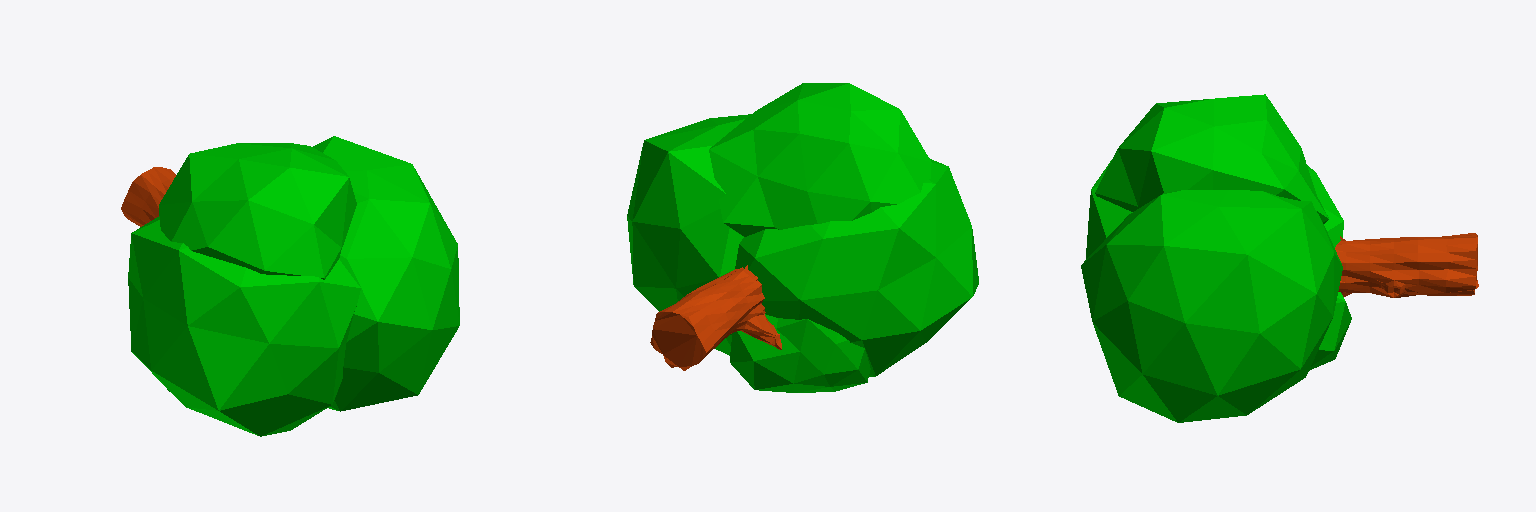
The model's file is Tree1.obj.
3 renders of one model, left to right at view 1: azimuth 30°, elevation 25°; view 2: azimuth 150°, elevation 25°; view 3: azimuth 270°, elevation 25°, orthographic.
Parts seen in each view (by area): view 1: Icosphere_Icosphere.001; view 2: Icosphere_Icosphere.001; view 3: Icosphere_Icosphere.001.
Part boxes in pixels (x1,y1,x2,y2): Icosphere_Icosphere.001: (121, 136, 459, 436); Icosphere_Icosphere.001: (627, 83, 978, 392); Icosphere_Icosphere.001: (1081, 94, 1478, 422).
Bounding box in the file's own units: 19.57 × 16.5 × 21.82.